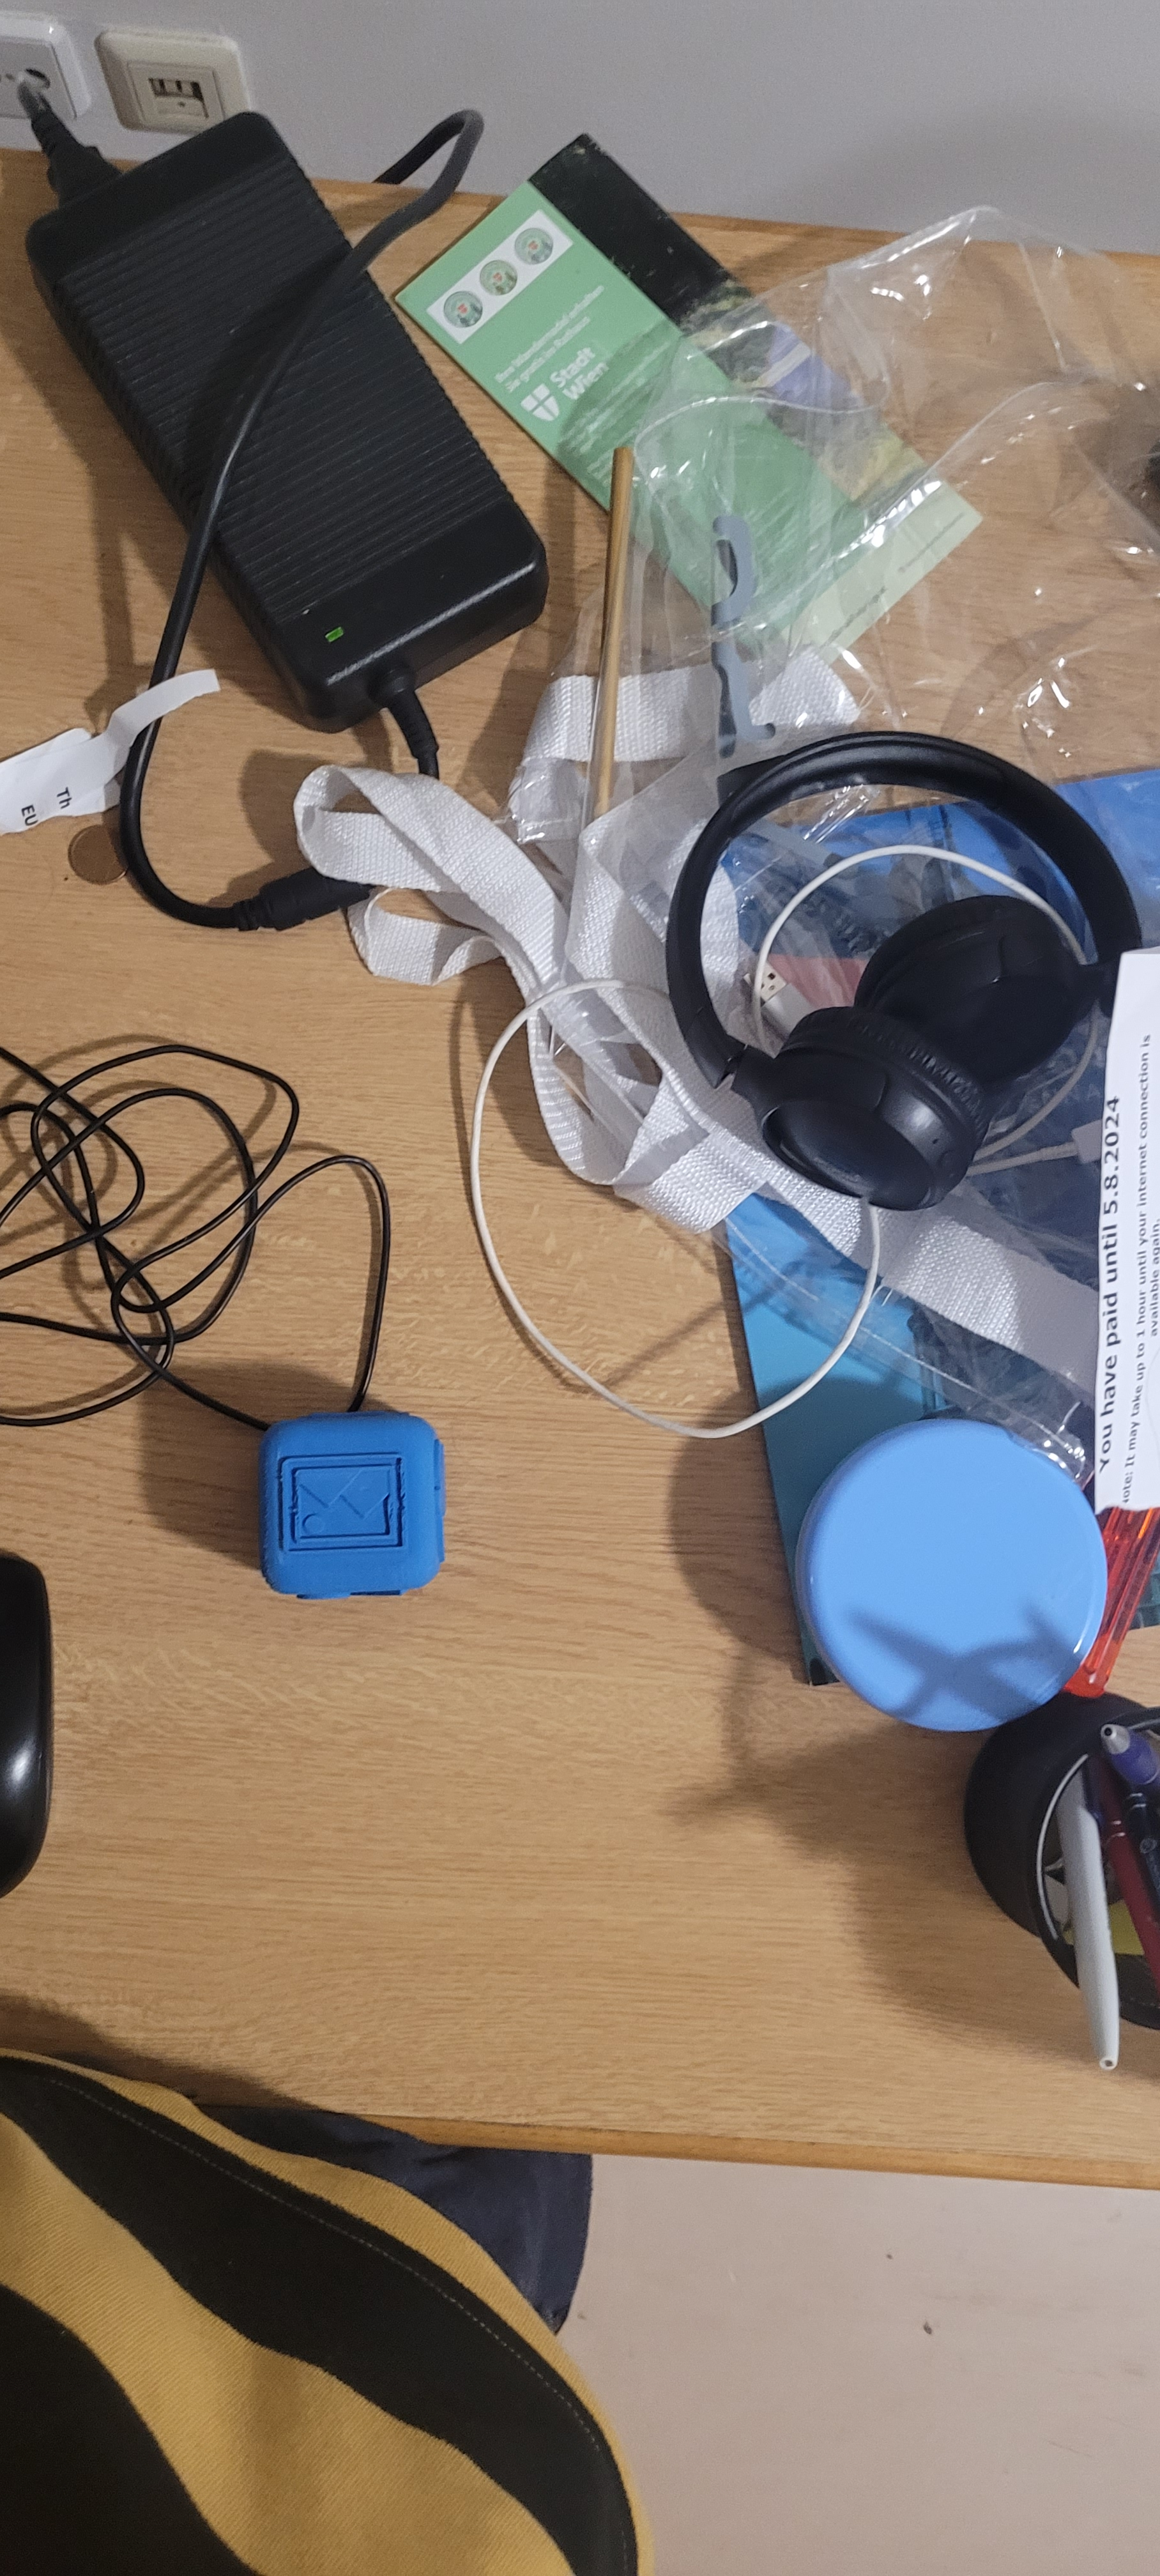Story: (278, 1447, 414, 1575)
